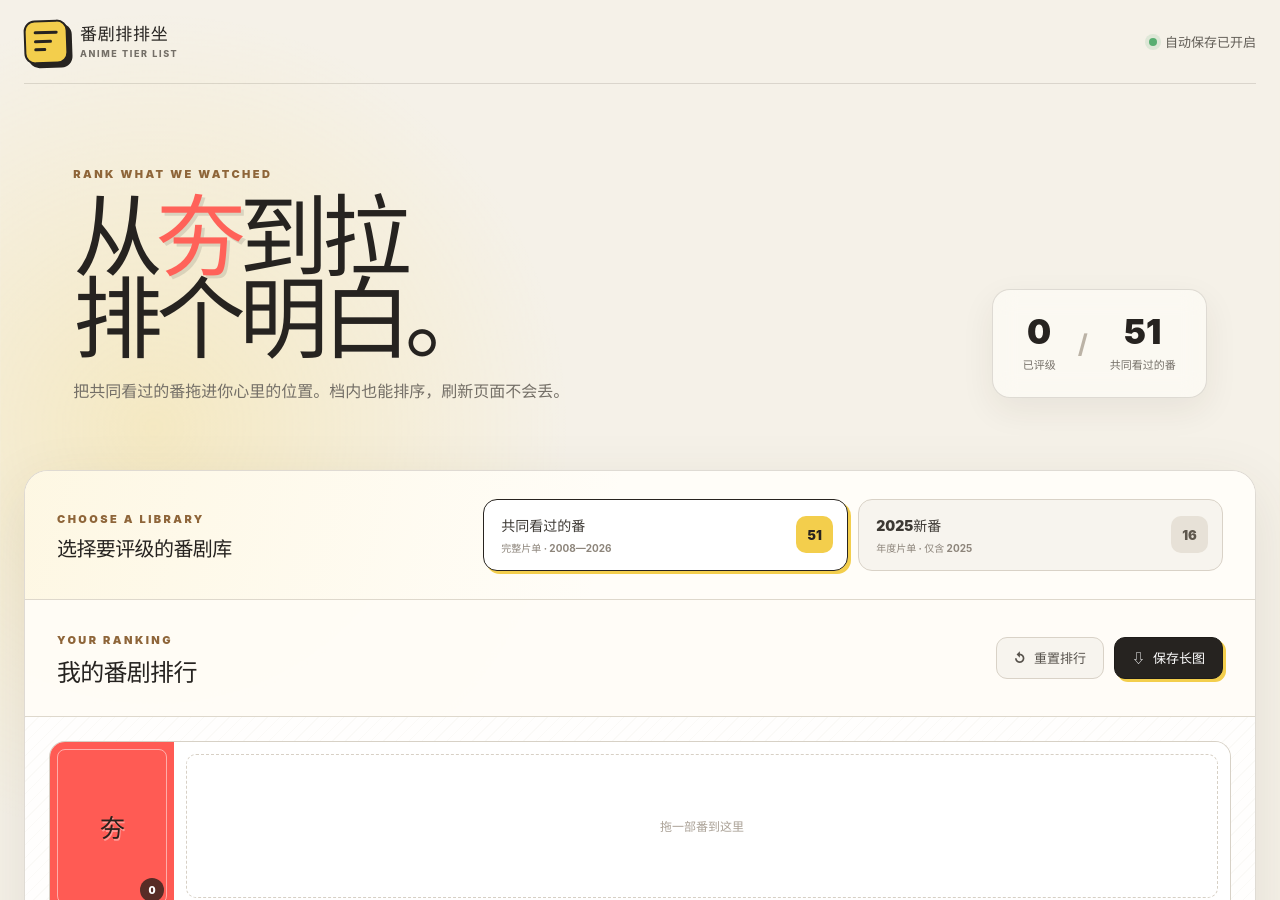
Scenario: App › asks for confirmation before reset
The width and height of the screenshot is (1280, 900).
Click the button "↺ 重置排行".
click(1050, 658)  # box [996,637,1104,679]
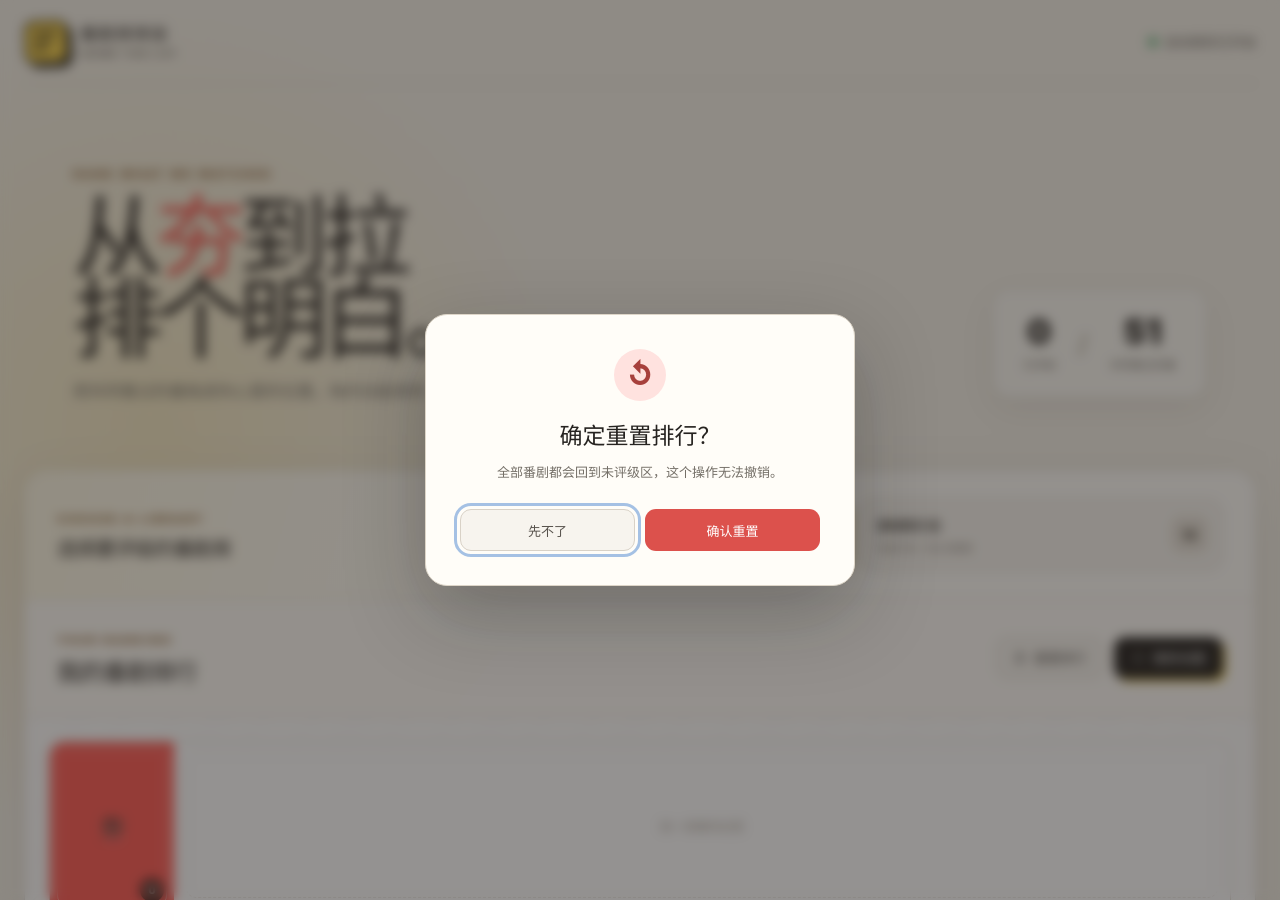
Expected: the dialog is shown, [425,314,855,586]
Expected: the button "确认重置" is shown, [645,509,820,551]
